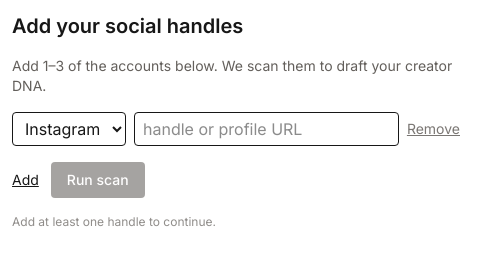
HandlesStep › shows a format error and keeps Run disabled for an invalid handle
The width and height of the screenshot is (477, 264).
Type "bad handle!" into the field with placeholder "handle or profile URL" at (266, 129), box [134,112,399,146]
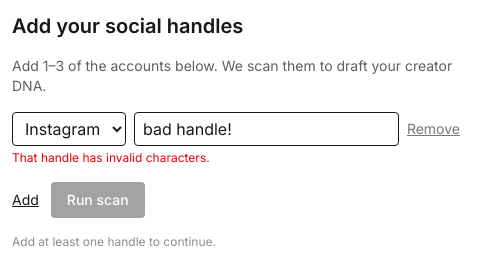
expect the button "Run scan" is disabled: met, box [51,182,145,218]
expect the text "That handle has invalid characters." is shown: met, box [12,150,210,165]
